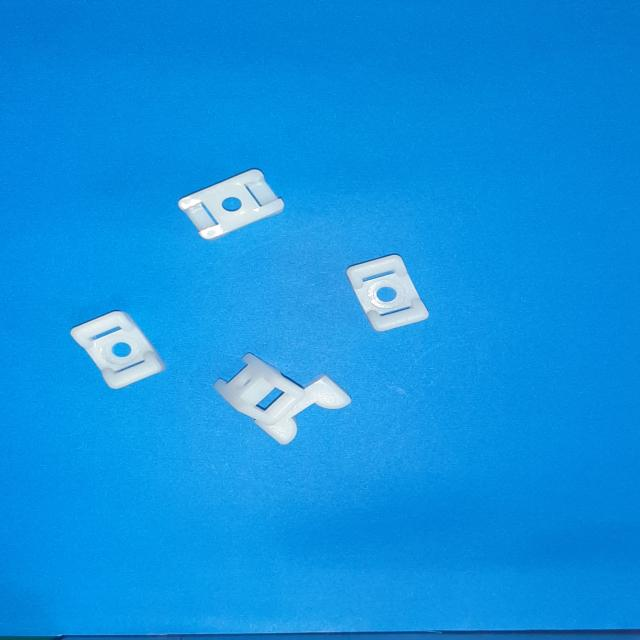false_1: (178, 169, 283, 240)
false_2: (254, 373, 353, 445)
true: (70, 312, 165, 389), (347, 255, 428, 331)
true_center: (111, 342, 132, 358), (376, 287, 397, 302)
